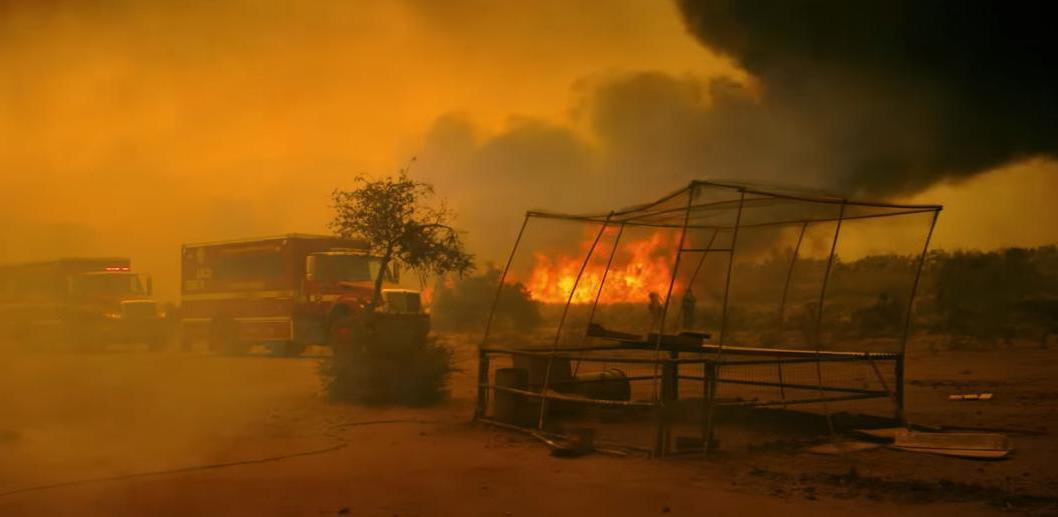Fire: (509, 216, 699, 314)
